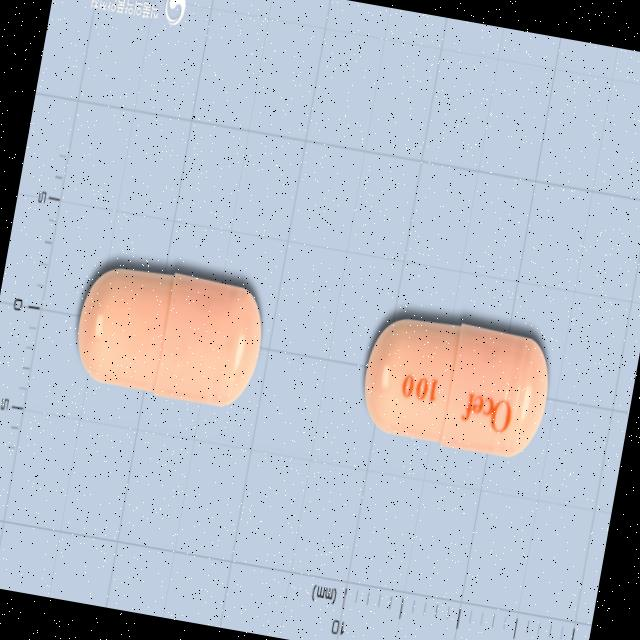Omnicef Cap: (354, 306, 557, 464), (68, 256, 271, 413)
